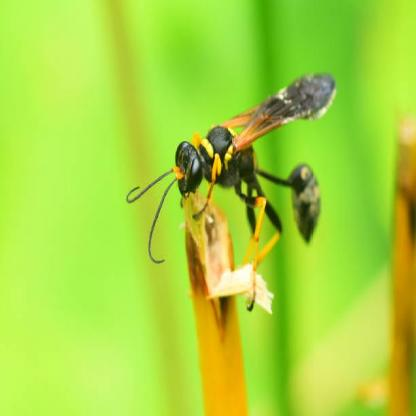sawfly: (125, 69, 338, 311)
